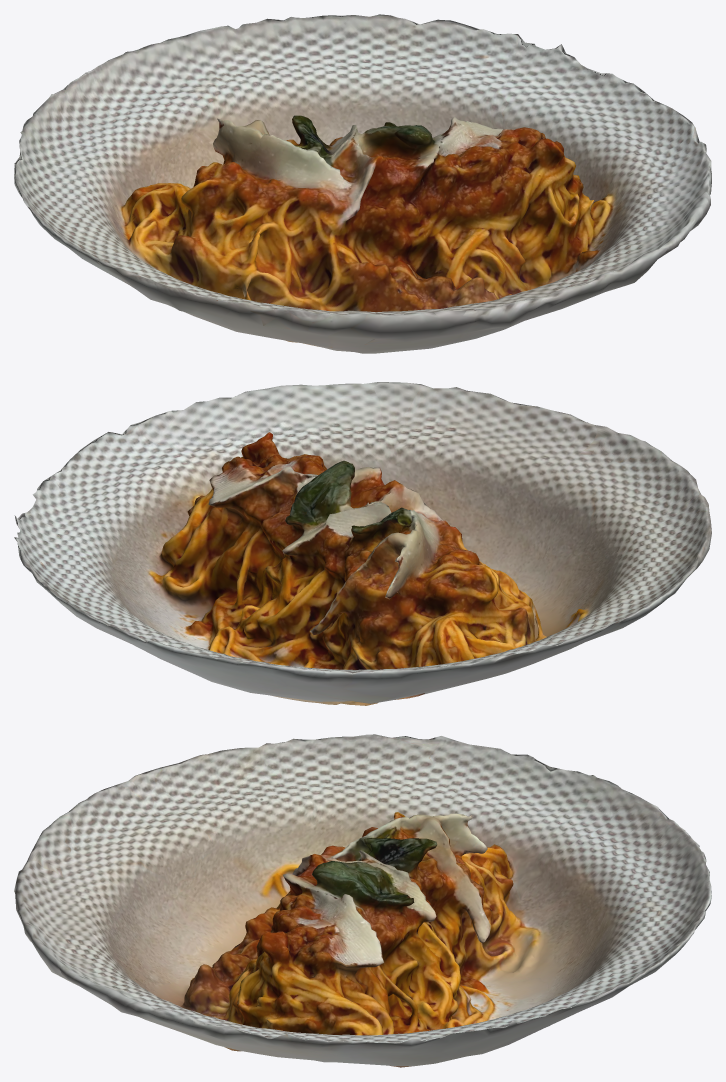
File: spagetti.glb
The picture shows the model from 3 angles, top to bottom: view 1: azimuth 30°, elevation 25°; view 2: azimuth 150°, elevation 25°; view 3: azimuth 270°, elevation 25°; orthographic projection.
Bounding box in the file's own units: 0.7773 × 0.1982 × 0.7814.
1 material, 1 textured.
